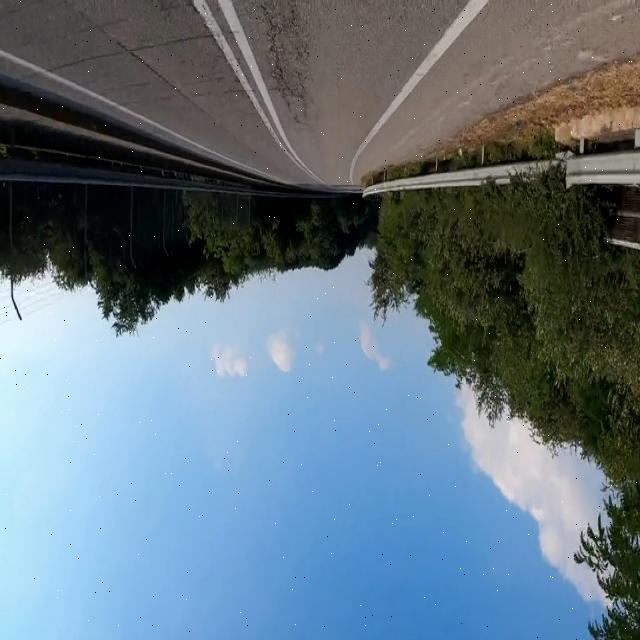lane: (349, 1, 487, 184), (194, 0, 322, 182)
